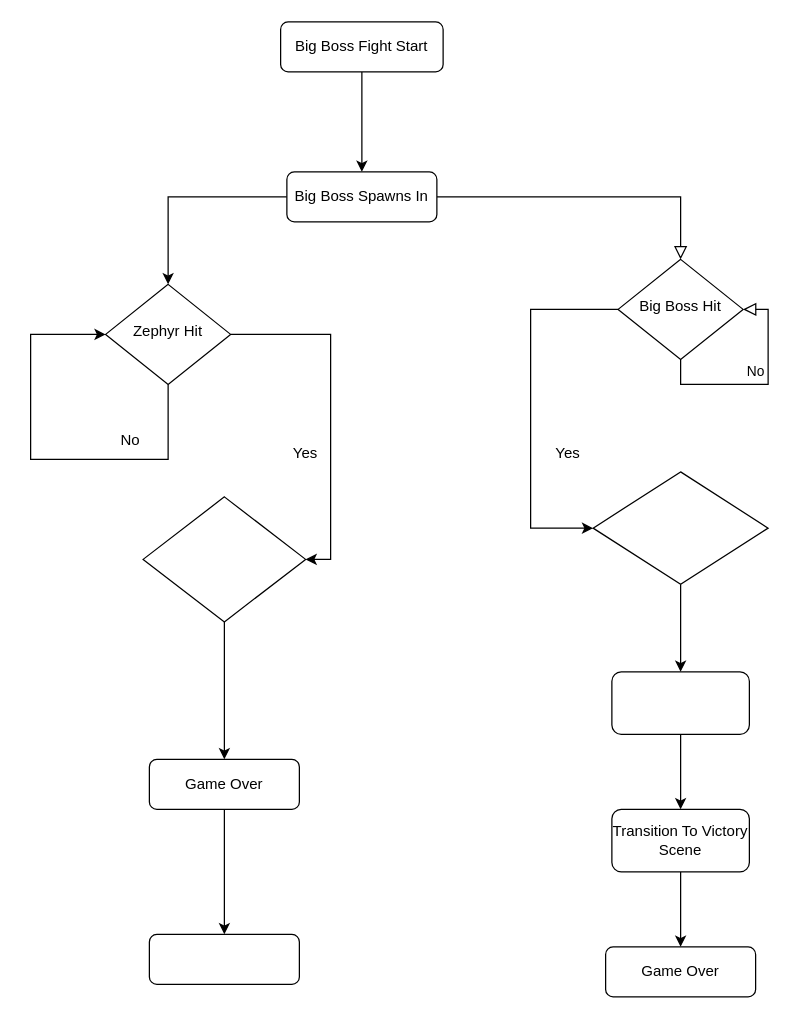
The diagram is 803 pixels wide and 1019 high, and some of its shapes have lost their labels. The shapes that lost their labels are listed below. From the top down, each one's box as (x1, y1, x2, y2) in pixels, then its label:
(592, 471, 768, 584): Big Boss Health = 0 ?
(142, 496, 306, 622): Zephyr Health = 0?
(611, 671, 749, 734): Victory
(148, 933, 299, 984): Respawn
